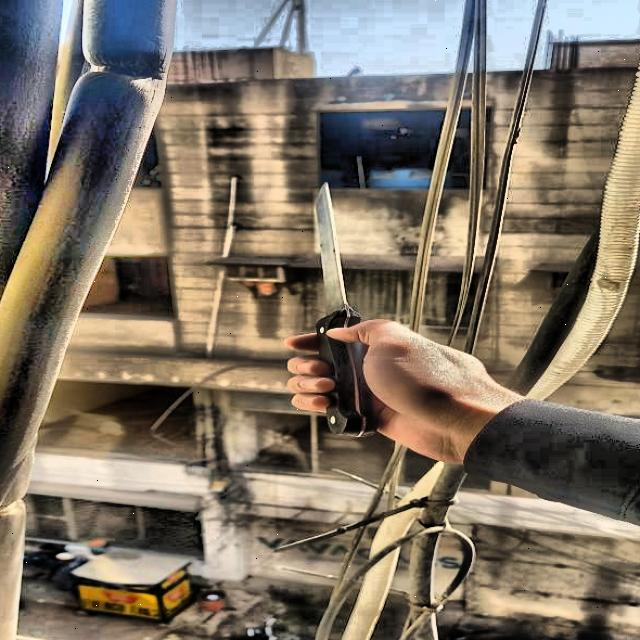knife: (313, 184, 382, 436)
